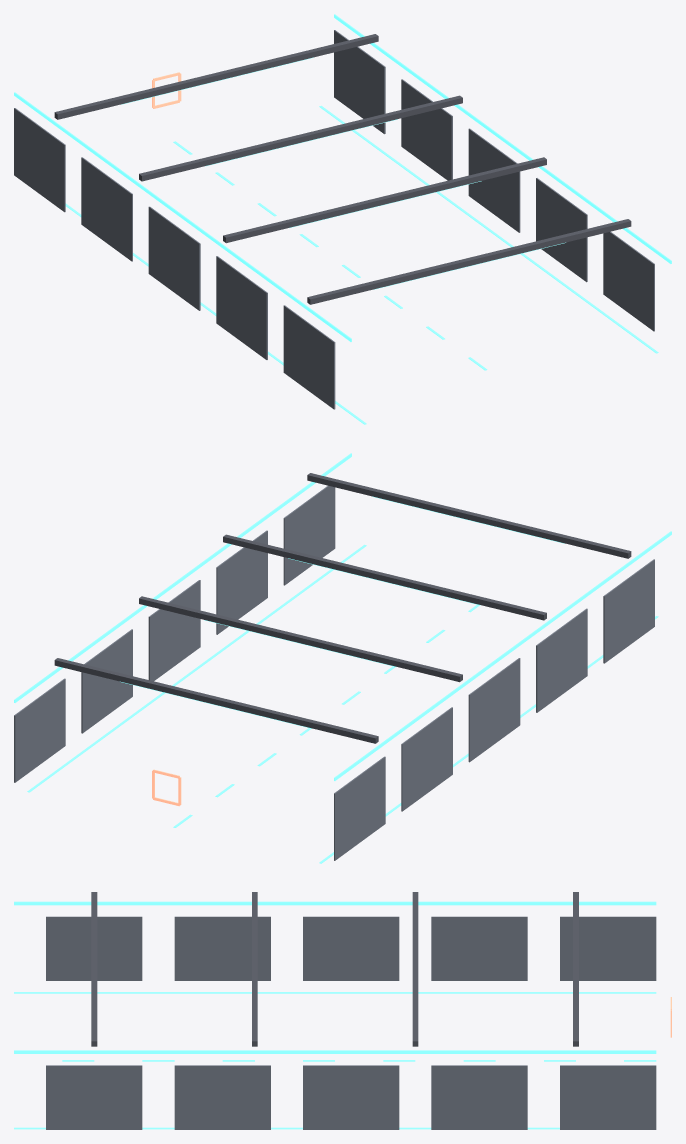
The model's file is range-stop-corridor.glb.
3 views of the same model, one above another, from view 1: azimuth 30°, elevation 25°; view 2: azimuth 150°, elevation 25°; view 3: azimuth 270°, elevation 25° (orthographic). The views are drawn at different scales.
Parts seen in each view (by area): view 1: Panel-1_2, Panel-1_4, Panel-1_1, Panel-1_0, Panel-1_3, Panel1_4, Panel1_1, Panel1_0, Panel1_2, Panel1_3, Beam3, Beam0 (+5 smaller); view 2: Panel-1_2, Panel-1_3, Panel1_0, Panel-1_0, Panel-1_1, Panel-1_4, Panel1_2, Panel1_4, Panel1_3, Panel1_1, Beam0, Beam3 (+5 smaller); view 3: Panel1_0, Panel1_1, Panel1_2, Panel1_3, Panel1_4, Panel-1_1, Panel-1_2, Panel-1_3, Panel-1_4, Panel-1_0, TopStrip-1, TopStrip1 (+6 smaller).
Part boxes in pixels (x1,y1,x2,y2): Panel-1_2: (148,206,200,310); Panel-1_4: (283,305,335,409); Panel-1_1: (81,157,132,261); Panel-1_0: (14,108,65,212); Panel-1_3: (216,256,267,359); Panel1_4: (603,231,654,331); Panel1_1: (401,79,452,180); Panel1_0: (334,30,385,134); Panel1_2: (468,128,520,232); Panel1_3: (536,178,587,282); Beam3: (307,219,631,304); Beam0: (54,34,378,119); Panel-1_2: (468,658,520,762); Panel-1_3: (536,608,587,712); Panel1_0: (14,678,65,782); Panel-1_0: (334,756,385,860); Panel-1_1: (401,707,452,811); Panel-1_4: (603,559,654,663); Panel1_2: (148,580,200,681); Panel1_4: (283,485,335,585); Panel1_3: (216,530,267,634); Panel1_1: (81,629,132,733); Beam0: (54,658,378,743); Beam3: (307,473,631,558); Panel1_0: (560,1065,656,1129); Panel1_1: (431,1065,527,1129); Panel1_2: (303,1065,399,1129); Panel1_3: (174,1065,270,1129); Panel1_4: (46,1065,142,1129); Panel-1_1: (431,916,527,980); Panel-1_2: (303,916,399,980); Panel-1_3: (174,916,270,980); Panel-1_4: (46,916,142,980); Panel-1_0: (560,916,656,980); TopStrip-1: (14,901,656,905); TopStrip1: (14,1050,656,1053).
Bounding box in the file's own units: 11 × 3.24 × 20.49.
